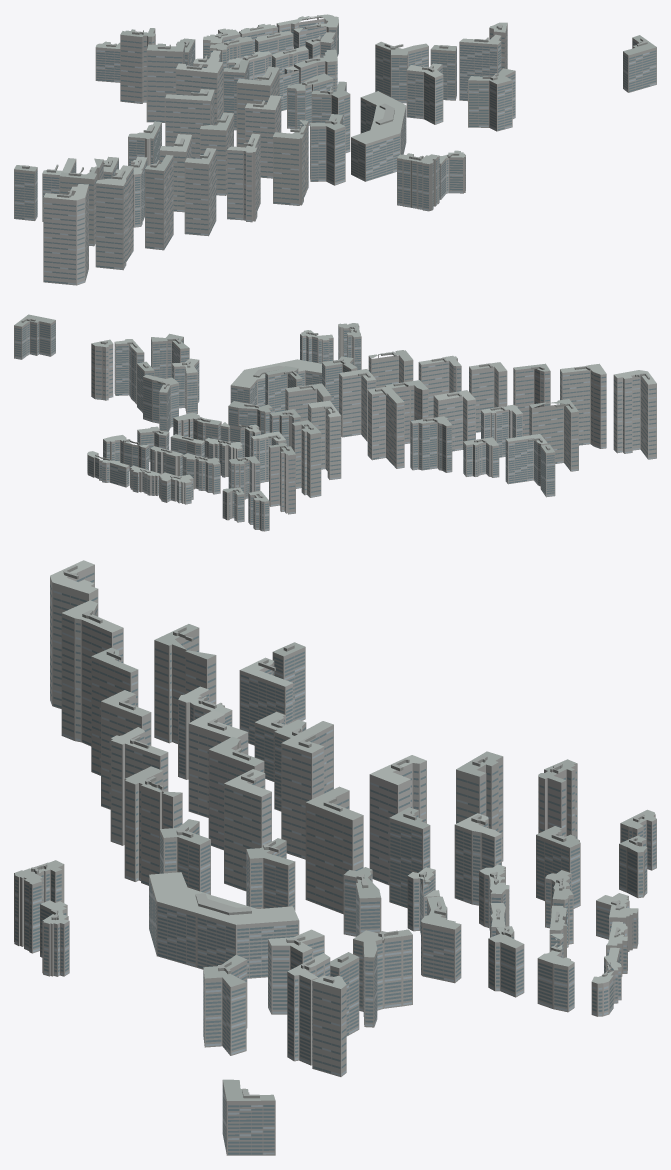
Rendered from apt-a10025263.glb.
3 renders of one model, top to bottom at view 1: azimuth 30°, elevation 25°; view 2: azimuth 150°, elevation 25°; view 3: azimuth 270°, elevation 25°, orthographic. The views are drawn at different scales.
Visible parts, largest first — view 1: apt-a10025263; view 2: apt-a10025263; view 3: apt-a10025263.
Part boxes in pixels (bbox=[...]): apt-a10025263: bbox=[14, 14, 656, 285]; apt-a10025263: bbox=[14, 314, 656, 531]; apt-a10025263: bbox=[14, 560, 656, 1155].
Bounding box in the file's own units: 845 × 106 × 487.
